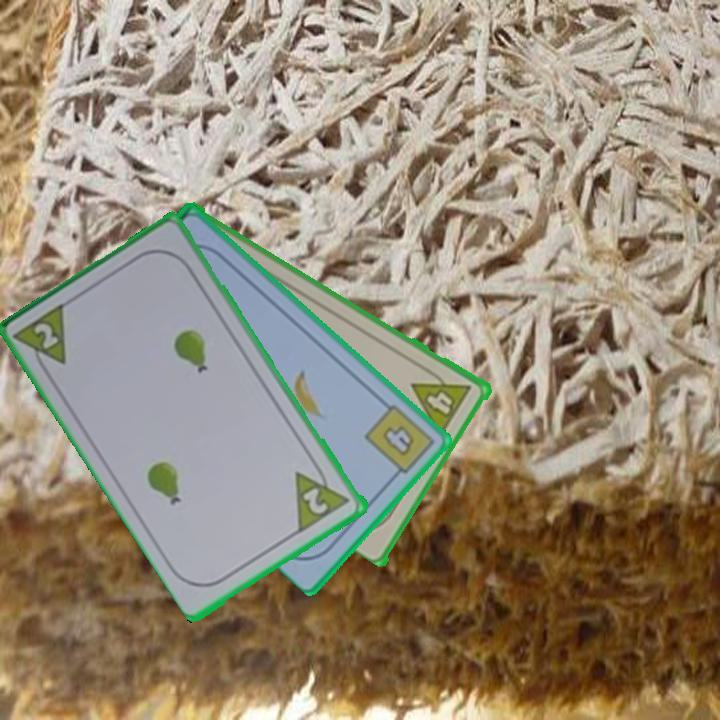2p: (12, 298, 71, 380), (300, 484, 332, 518)
4b: (361, 400, 438, 483)
4p: (409, 362, 475, 439)
